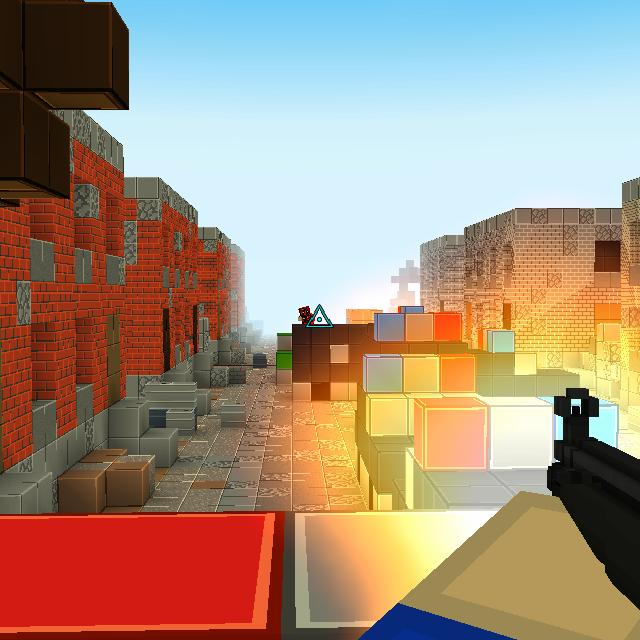enemy: (297, 304, 314, 324)
